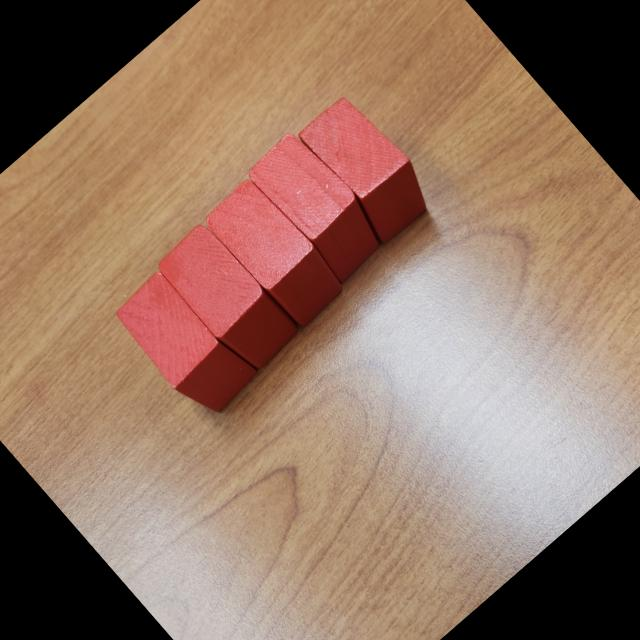red: (103, 259, 264, 428), (287, 85, 443, 248), (242, 124, 396, 287), (197, 173, 350, 334), (152, 218, 303, 376)
